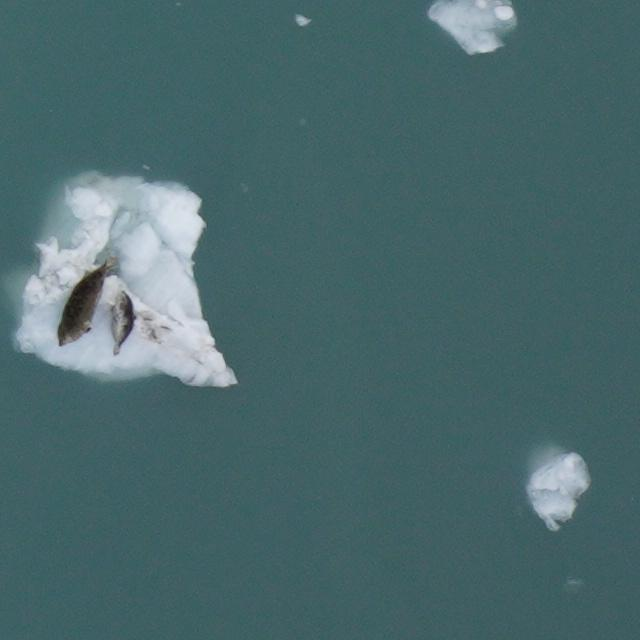seal: (54, 251, 122, 351), (105, 287, 140, 359)
